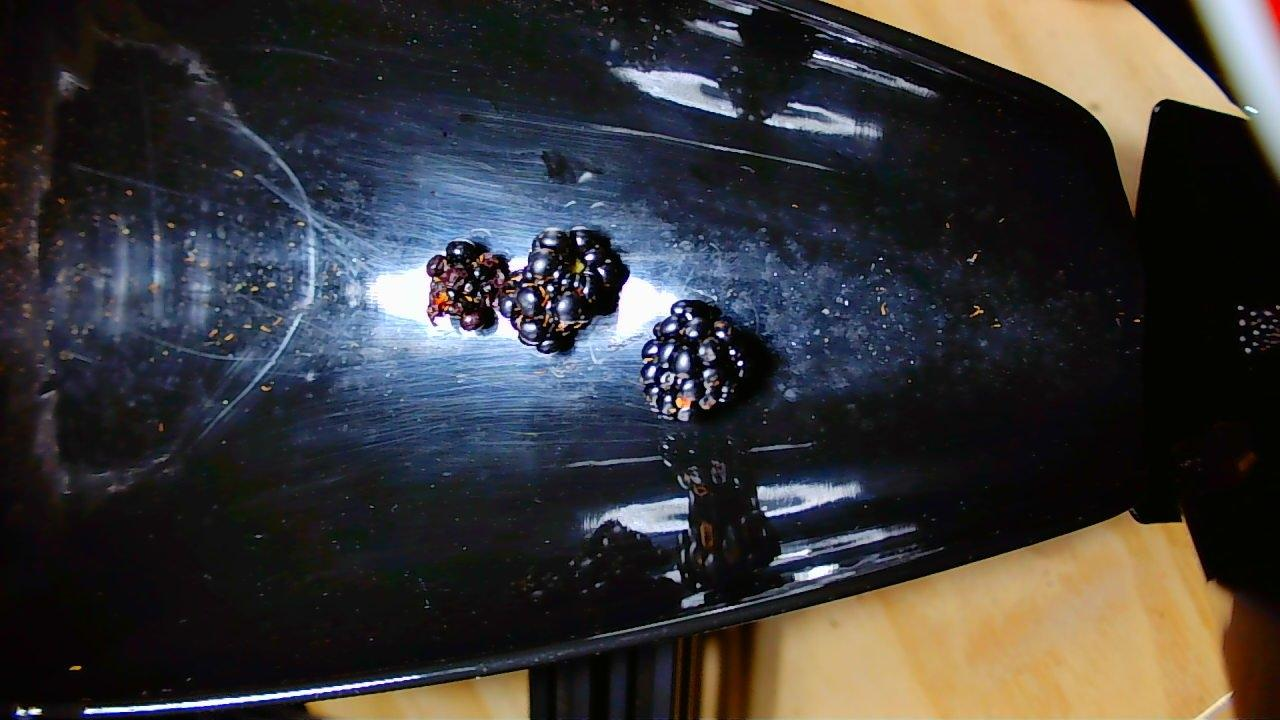berry: (512, 230, 624, 349), (642, 302, 753, 422), (428, 244, 505, 326)
